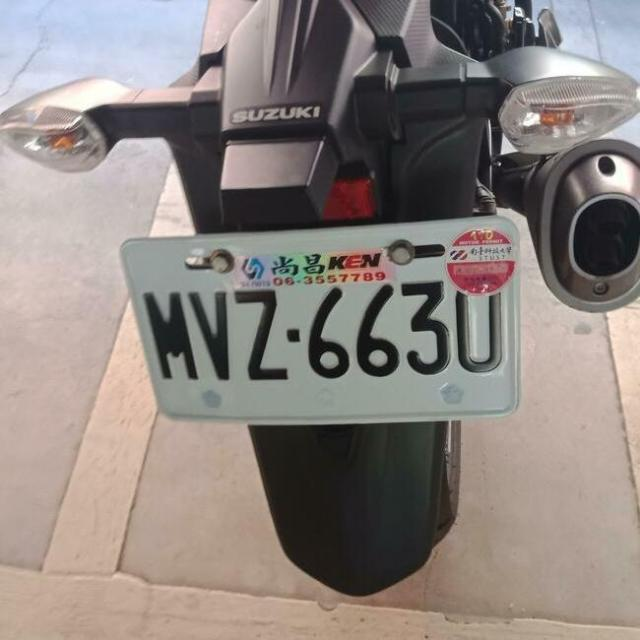W: (117, 204, 533, 442)
